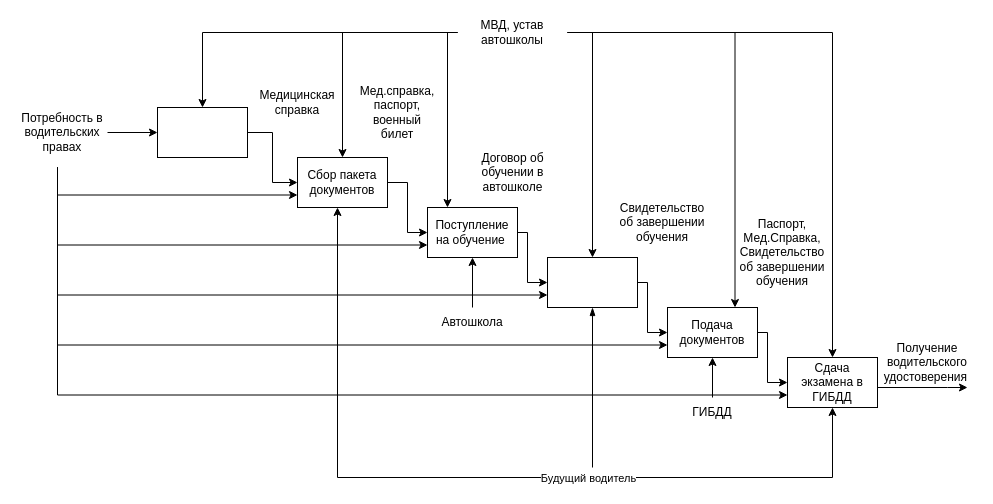
Image size: 993x504. Some labels were removed from this diagram. The centre of each missing label's shape, as x and y in pixels:
Проведение медицинского осмотра: pixel 202 132
Сдача теории и практики в Автошколе: pixel 592 282
